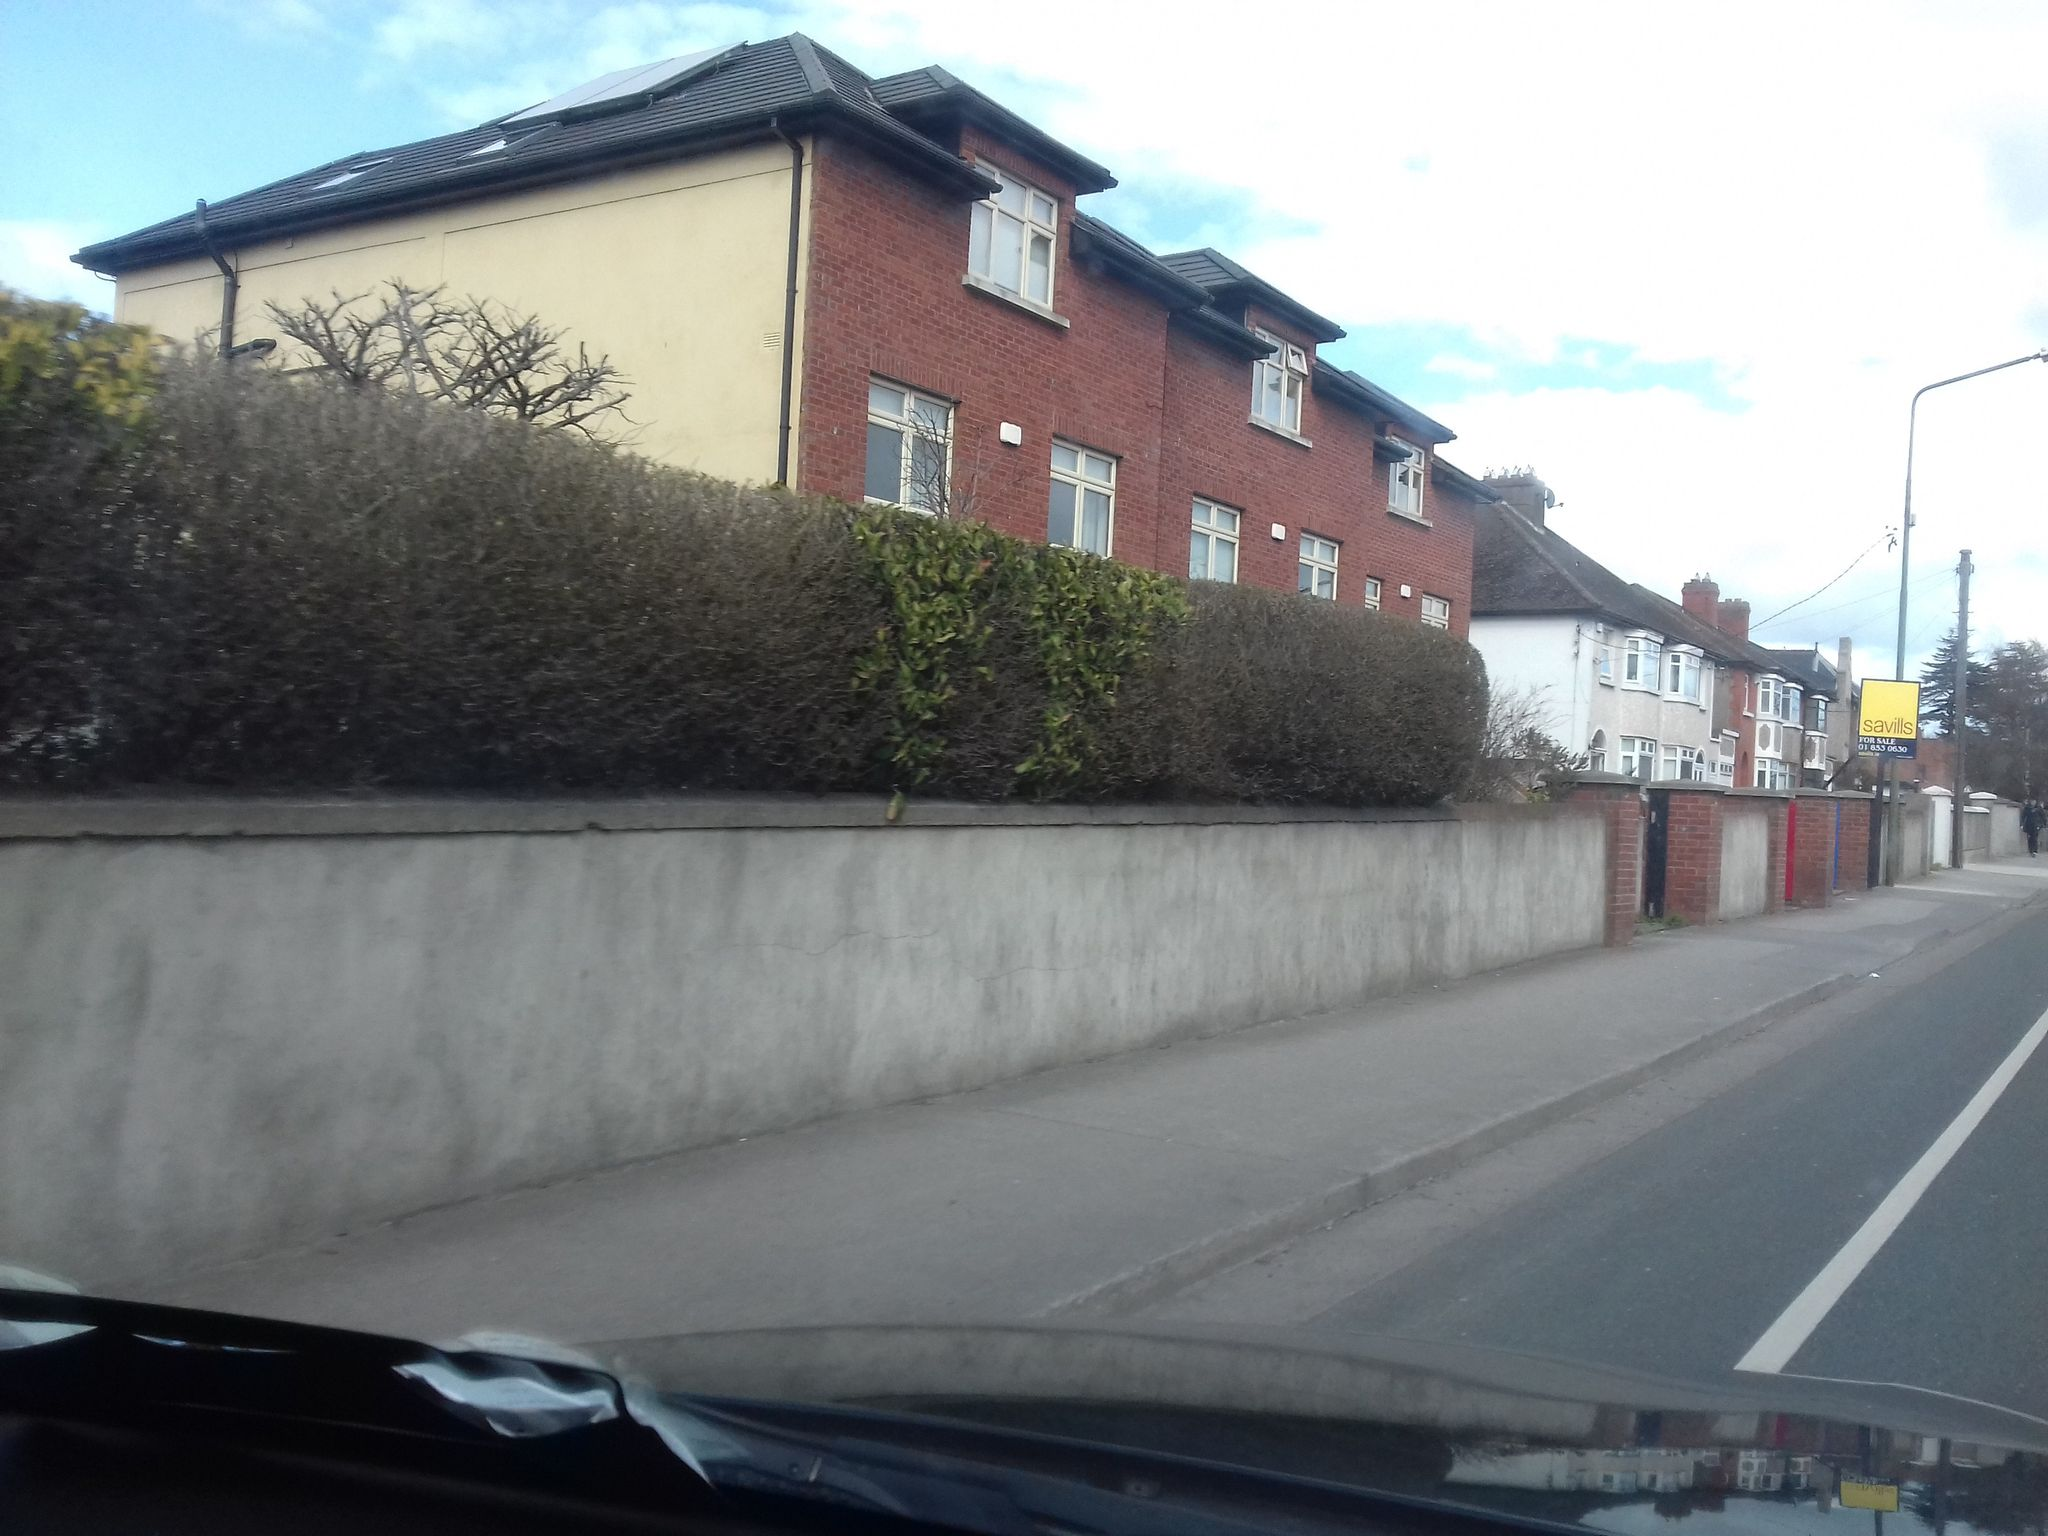property sign: (1850, 662, 1925, 784)
